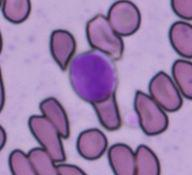L: (68, 49, 118, 102)
